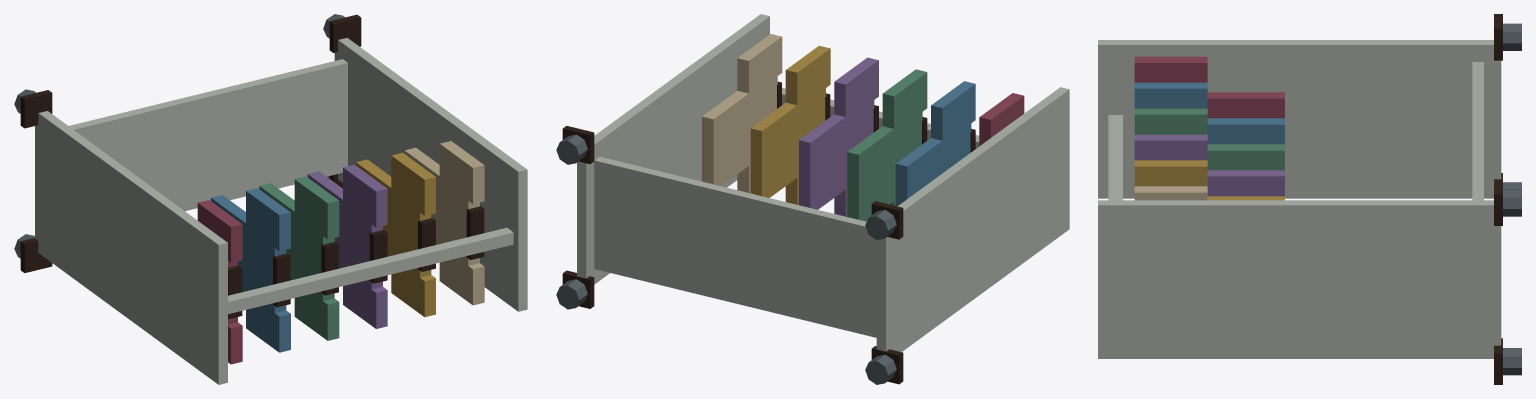
File: SM_BSW_KidsRollingRack.obj
3 renders of one model, left to right at view 1: azimuth 30°, elevation 25°; view 2: azimuth 150°, elevation 25°; view 3: azimuth 270°, elevation 25°, orthographic. The views are drawn at different scales.
Visible parts, largest first — view 1: SM_BSW_KidsRollingRack; view 2: SM_BSW_KidsRollingRack; view 3: SM_BSW_KidsRollingRack.
Boxes of the visible parts, x1=… form: SM_BSW_KidsRollingRack: x1=14, y1=14, x2=527, y2=384; SM_BSW_KidsRollingRack: x1=556, y1=14, x2=1069, y2=384; SM_BSW_KidsRollingRack: x1=1098, y1=14, x2=1521, y2=384.
Size of the model in its own units: 146 by 72 by 145.
